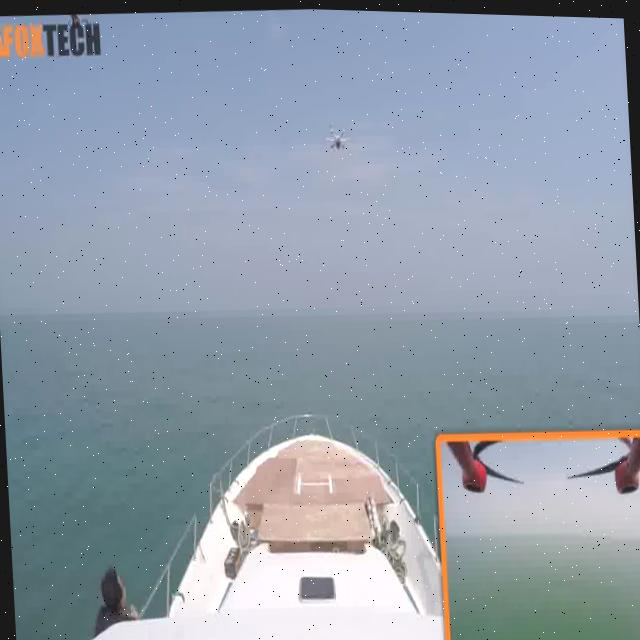drone: (317, 114, 356, 159)
